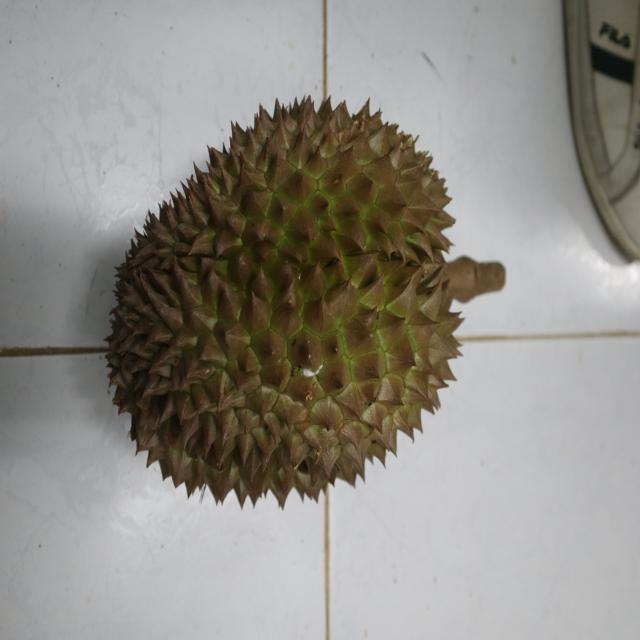mature: (103, 95, 467, 511)
